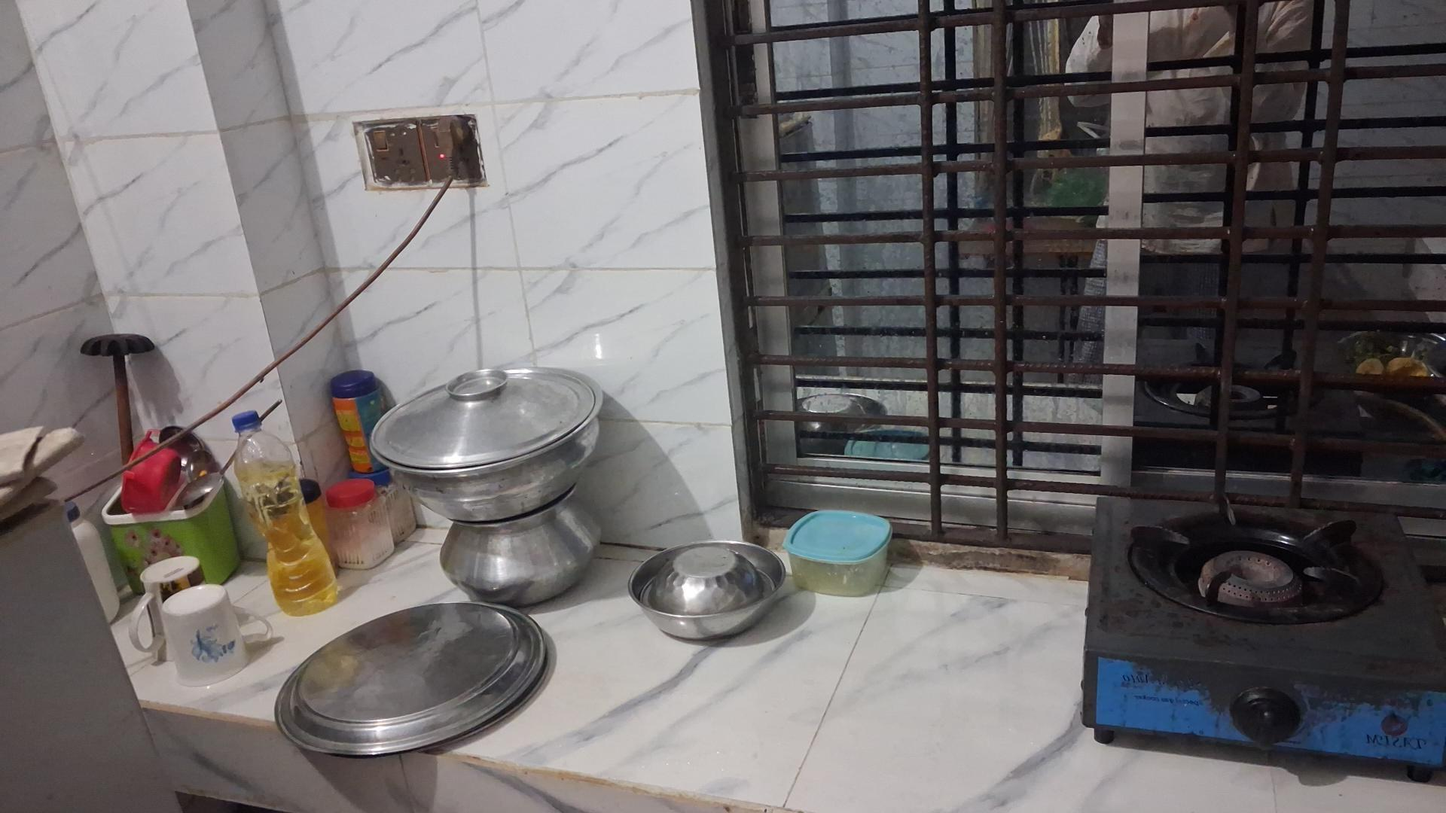Bottle: (231, 417, 340, 616)
Bowl: (624, 537, 788, 641)
Cup: (154, 590, 271, 685)
Jar: (783, 500, 895, 598), (327, 370, 387, 479), (326, 481, 398, 563)
Plate: (276, 600, 550, 755)
Pot: (369, 370, 602, 520), (435, 510, 600, 595)
